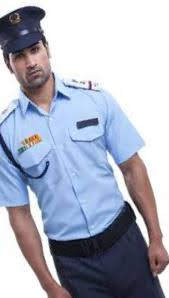uniform: (1, 75, 160, 279)
